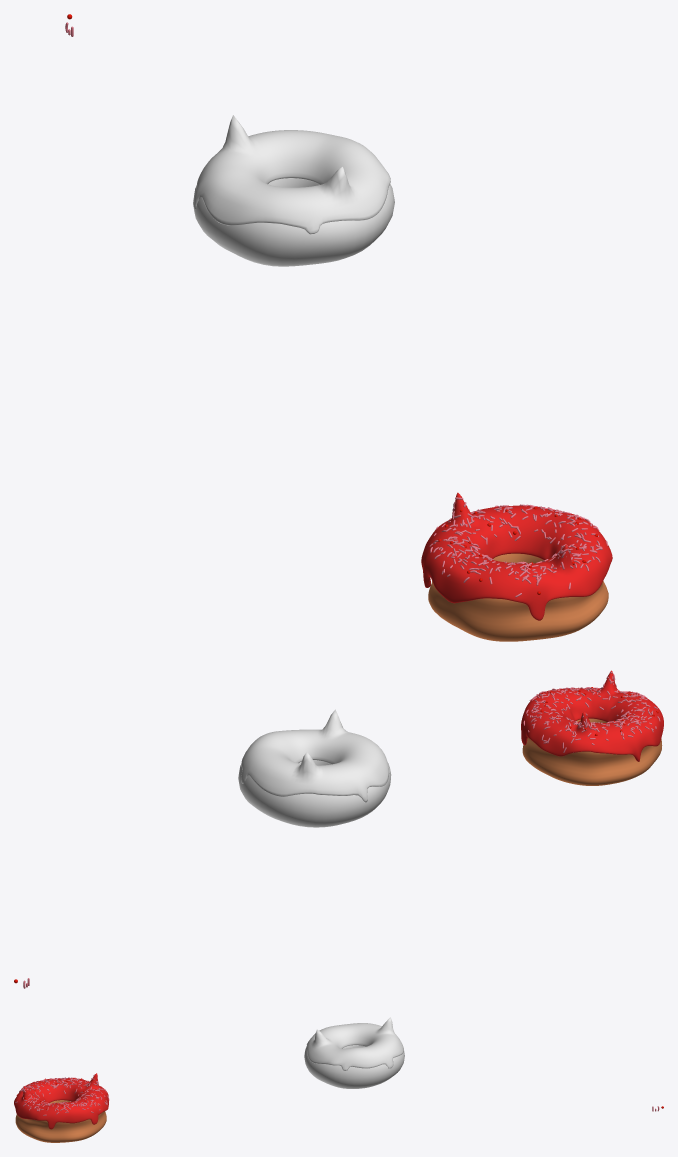
File: DevilDonut.fbx
The picture shows the model from 3 angles, top to bottom: view 1: azimuth 30°, elevation 25°; view 2: azimuth 150°, elevation 25°; view 3: azimuth 270°, elevation 25°; orthographic projection. The views are drawn at different scales.
Parts seen in each view (by area): view 1: Icing.001, Icing, DevilDonut.001, DevilDonut; view 2: Icing.001, Icing, DevilDonut.001, DevilDonut; view 3: Icing.001, Icing, DevilDonut.001, DevilDonut.
Boxes of the visible parts, x1=… form: Icing.001: x1=193, y1=115, x2=390, y2=234; Icing: x1=421, y1=492, x2=612, y2=620; DevilDonut.001: x1=193, y1=178, x2=394, y2=266; DevilDonut: x1=428, y1=553, x2=608, y2=641; Icing.001: x1=241, y1=709, x2=389, y2=802; Icing: x1=521, y1=670, x2=663, y2=761; DevilDonut.001: x1=238, y1=760, x2=391, y2=827; DevilDonut: x1=522, y1=718, x2=662, y2=785; Icing.001: x1=306, y1=1017, x2=403, y2=1070; Icing: x1=14, y1=1073, x2=108, y2=1129; DevilDonut.001: x1=304, y1=1045, x2=404, y2=1088; DevilDonut: x1=15, y1=1100, x2=106, y2=1142.
Size of what is drawn, in the model's own units: 21.13 by 20.87 by 99.69.
